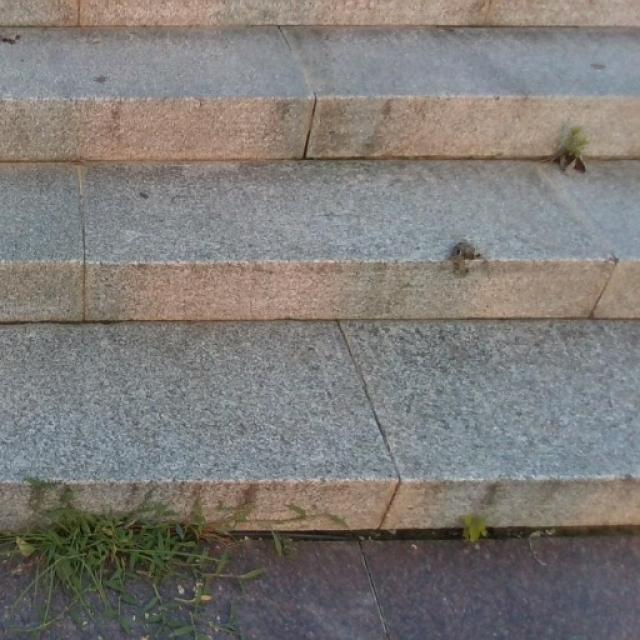Stairs: (0, 2, 639, 538)
